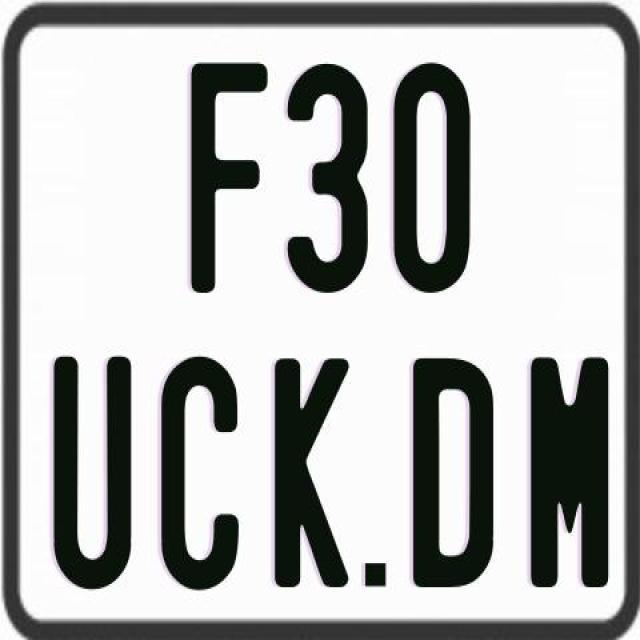0: (389, 62, 472, 301)
3: (287, 59, 372, 290)
C: (157, 353, 235, 588)
D: (411, 358, 498, 589)
F: (191, 58, 276, 298)
K: (272, 356, 352, 594)
M: (528, 357, 607, 590)
U: (50, 357, 128, 596)
